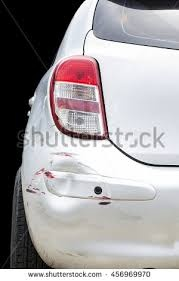Dent: (36, 151, 98, 212)
Scratch: (26, 169, 52, 198)
